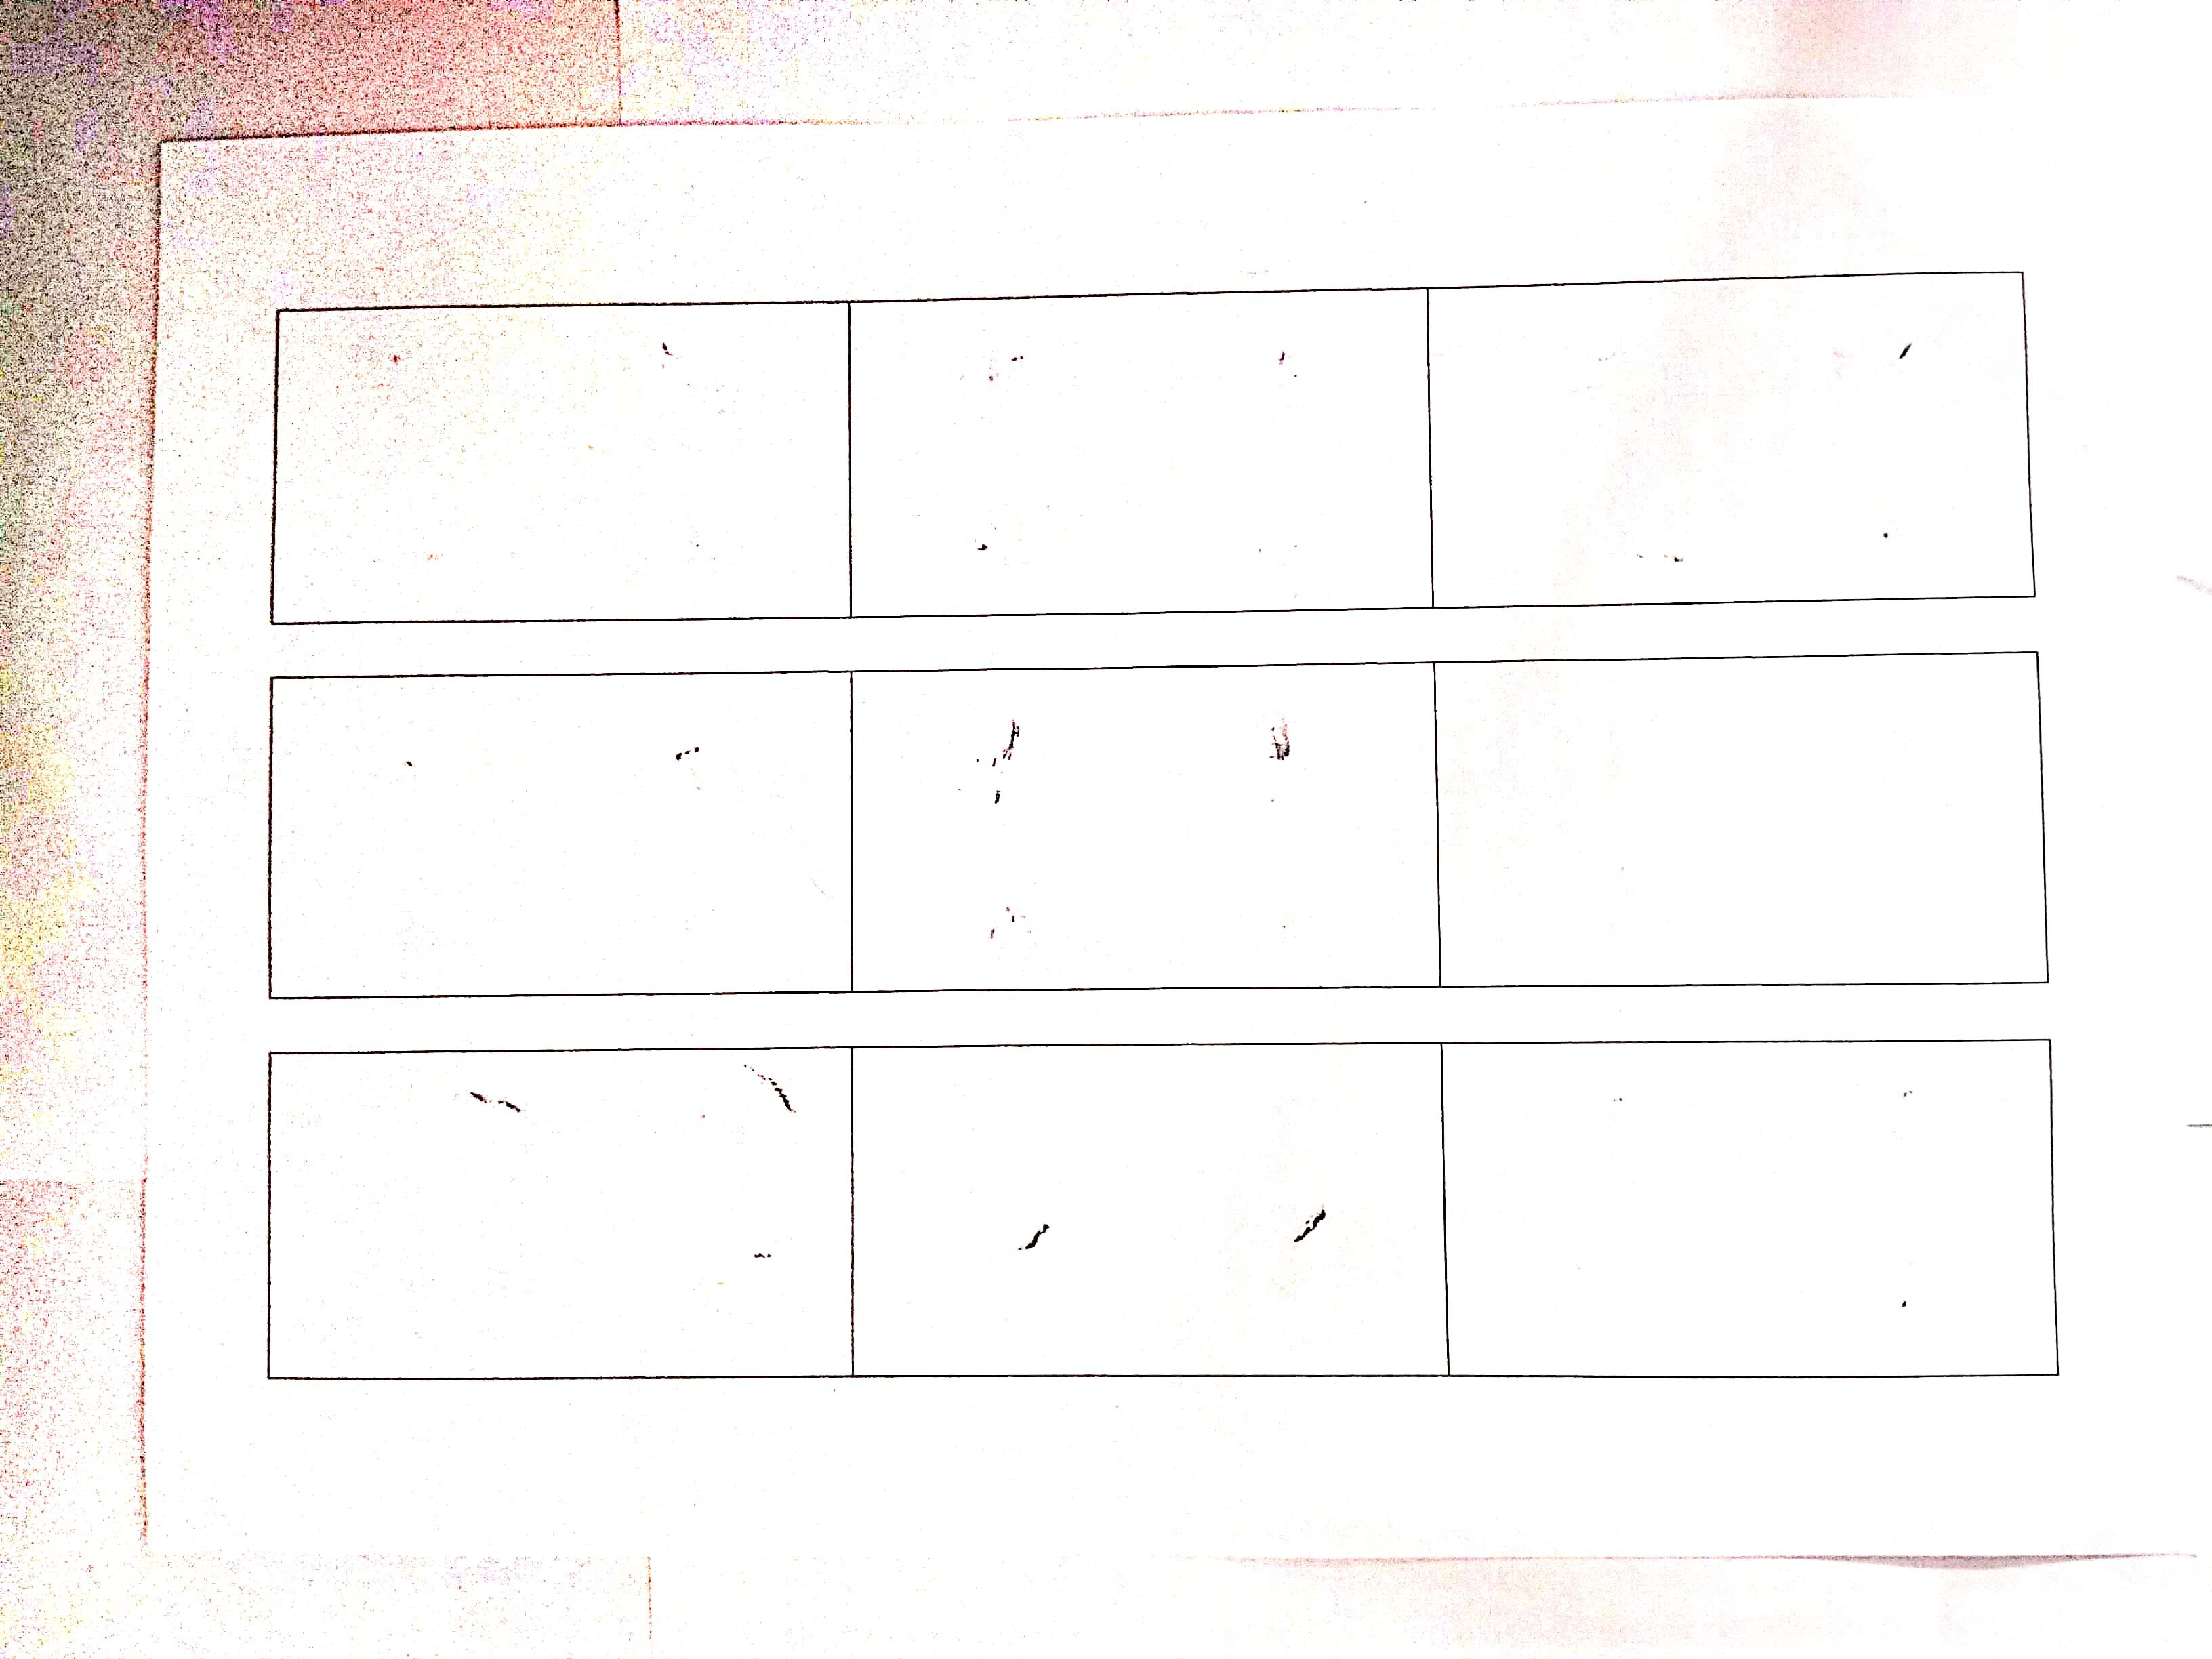Free: (1446, 657, 2033, 992), (857, 1037, 1442, 1366), (1433, 279, 2020, 606), (1451, 1037, 2047, 1358), (273, 1049, 848, 1380), (273, 671, 848, 1000), (268, 301, 848, 624), (857, 671, 1425, 993), (853, 300, 1423, 615)
